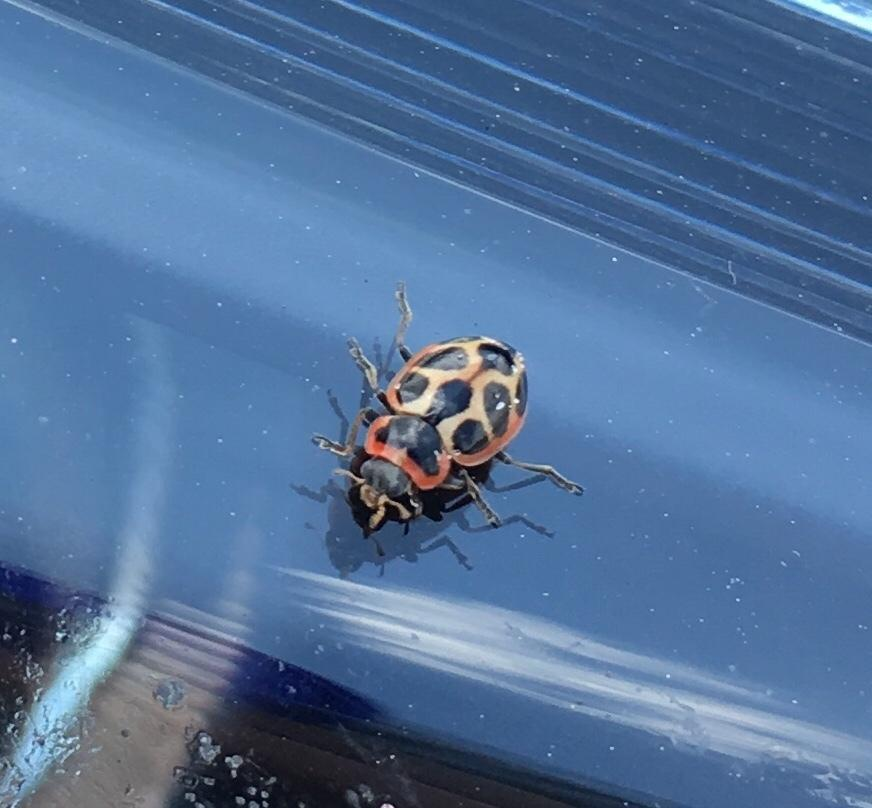ladybug: (311, 283, 589, 559)
